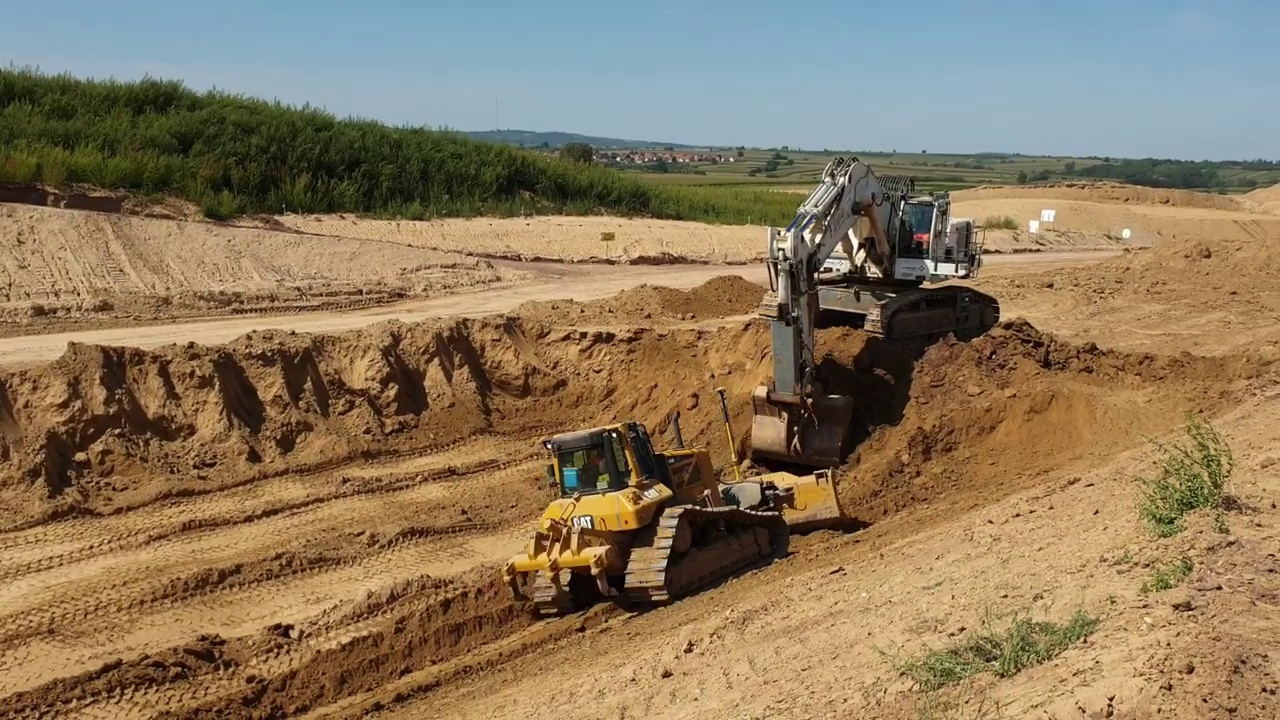bulldozer: (497, 385, 852, 619)
excavator: (743, 151, 1005, 469)
